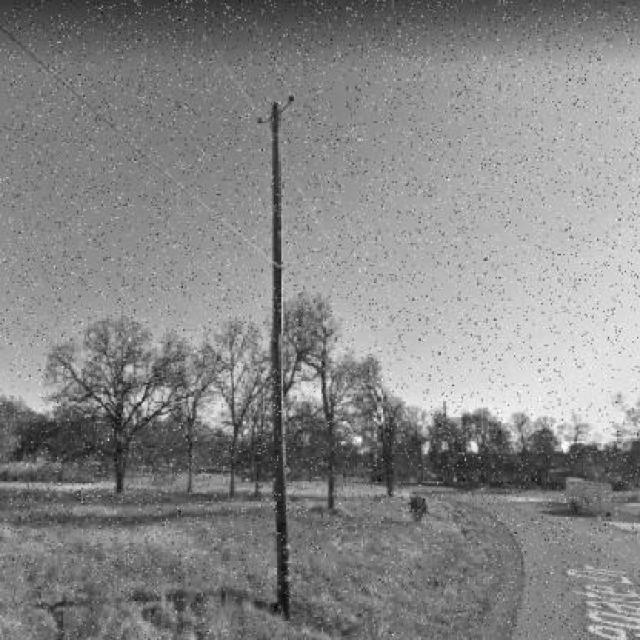pole: (209, 36, 334, 626)
